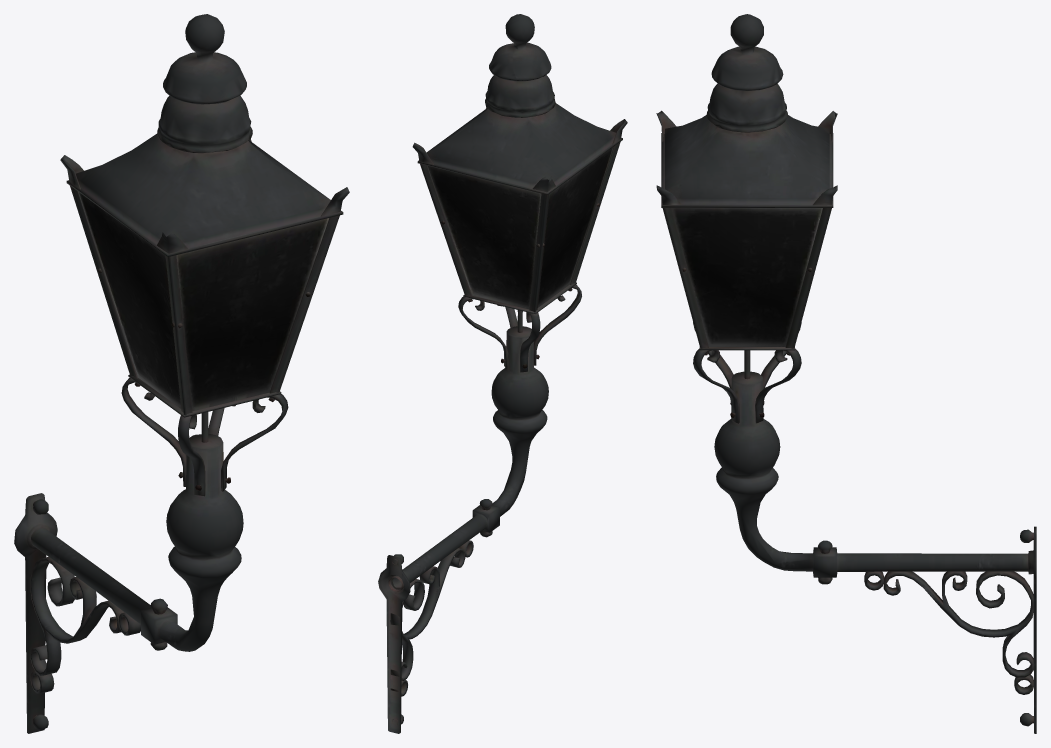
File: street-lamp-02.glb
3 views of the same model, side by side, from view 1: azimuth 30°, elevation 25°; view 2: azimuth 150°, elevation 25°; view 3: azimuth 270°, elevation 25° (orthographic). The views are drawn at different scales.
Visible parts, largest first — view 1: street_lamp_02; view 2: street_lamp_02; view 3: street_lamp_02.
Boxes of the visible parts, x1=… form: street_lamp_02: x1=14, y1=14, x2=349, y2=733; street_lamp_02: x1=378, y1=14, x2=627, y2=733; street_lamp_02: x1=656, y1=14, x2=1036, y2=733.
Size of the model in its own units: 0.3848 by 1.67 by 0.8067.
2 materials, 2 textured.
